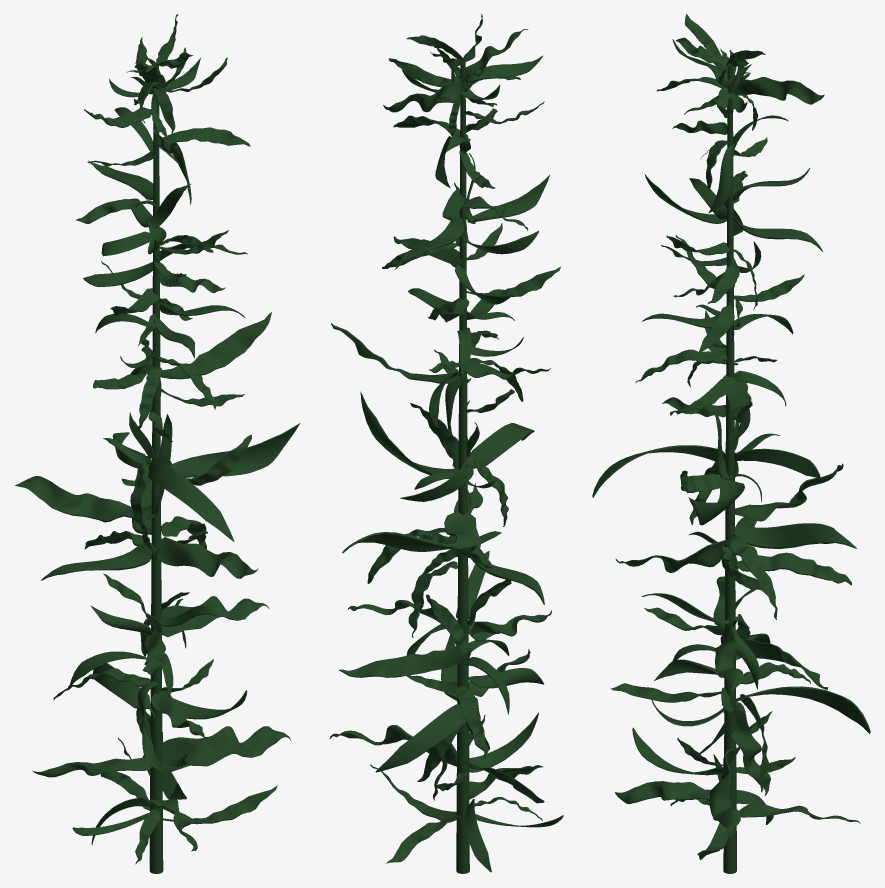
The model's file is kelp_plant.glb.
3 renders of one model, left to right at view 1: azimuth 30°, elevation 25°; view 2: azimuth 150°, elevation 25°; view 3: azimuth 270°, elevation 25°, orthographic.
Parts seen in each view (by area): view 1: Object_2, Object_5, Object_12, Object_3, Object_4, Object_10, Object_6, Object_9, Object_7, Object_11, Object_8; view 2: Object_2, Object_3, Object_11, Object_5, Object_6, Object_12, Object_4, Object_7, Object_10, Object_8, Object_9, Object_13; view 3: Object_2, Object_3, Object_12, Object_4, Object_6, Object_10, Object_5, Object_11, Object_9, Object_8, Object_7.
Part boxes in pixels (left/top/right/bottom): Object_2: left=88, top=57, right=300, bottom=873; Object_5: left=83, top=14, right=277, bottom=824; Object_12: left=32, top=37, right=291, bottom=777; Object_3: left=70, top=78, right=234, bottom=685; Object_4: left=87, top=57, right=250, bottom=767; Object_10: left=103, top=52, right=251, bottom=851; Object_6: left=41, top=235, right=218, bottom=810; Object_9: left=75, top=199, right=258, bottom=775; Object_7: left=15, top=61, right=207, bottom=543; Object_11: left=72, top=107, right=206, bottom=845; Object_8: left=53, top=42, right=180, bottom=864; Object_2: left=360, top=61, right=549, bottom=873; Object_3: left=400, top=55, right=542, bottom=714; Object_11: left=339, top=101, right=563, bottom=872; Object_5: left=331, top=35, right=538, bottom=822; Object_6: left=342, top=242, right=544, bottom=863; Object_12: left=329, top=78, right=551, bottom=803; Object_4: left=393, top=69, right=560, bottom=781; Object_7: left=410, top=29, right=550, bottom=568; Object_10: left=410, top=14, right=542, bottom=799; Object_8: left=408, top=51, right=542, bottom=820; Object_9: left=426, top=196, right=528, bottom=800; Object_13: left=388, top=47, right=460, bottom=136; Object_2: left=644, top=63, right=870, bottom=873; Object_3: left=592, top=39, right=820, bottom=659; Object_12: left=644, top=77, right=824, bottom=838; Object_4: left=666, top=64, right=804, bottom=792; Object_6: left=635, top=248, right=860, bottom=823; Object_10: left=610, top=37, right=738, bottom=803; Object_5: left=656, top=50, right=793, bottom=859; Object_11: left=632, top=48, right=828, bottom=824; Object_9: left=615, top=171, right=770, bottom=796; Object_8: left=670, top=60, right=851, bottom=806; Object_7: left=684, top=14, right=843, bottom=571.
Size of the model in its own units: 28.11 by 94.66 by 28.54.
